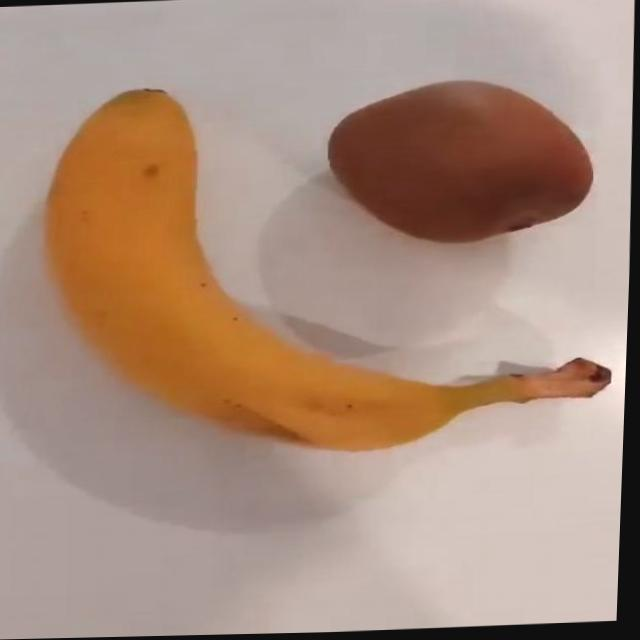Banana: (36, 70, 625, 465)
